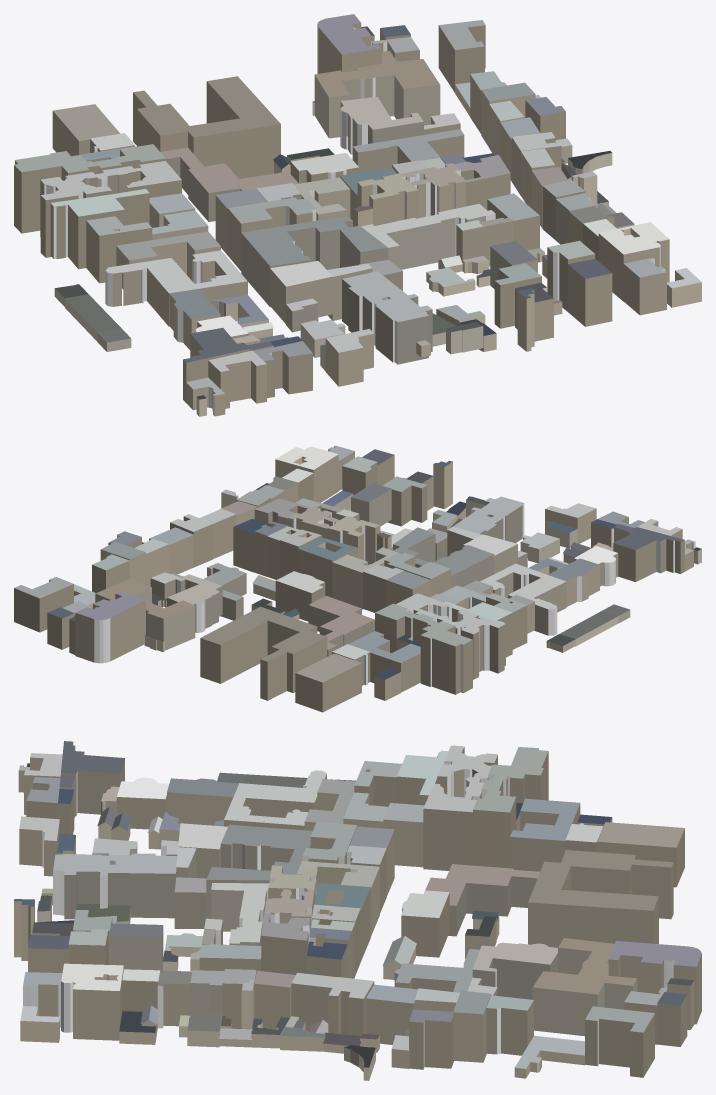
3 views of the same model, one above another, from view 1: azimuth 30°, elevation 25°; view 2: azimuth 150°, elevation 25°; view 3: azimuth 270°, elevation 25° (orthographic). The views are drawn at different scales.
Parts seen in each view (by area): view 1: tuile; view 2: tuile; view 3: tuile.
Part boxes in pixels (bbox=[...]): tuile: bbox=[14, 14, 701, 416]; tuile: bbox=[14, 445, 701, 712]; tuile: bbox=[14, 741, 701, 1080].
Size of the model in its own units: 263 by 30.83 by 258.
